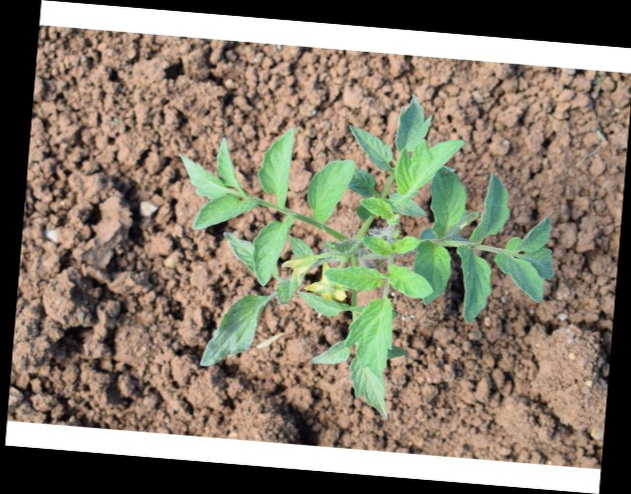tomato: (172, 89, 553, 413)
